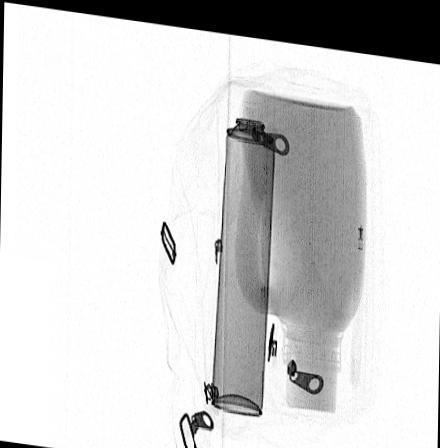Sprayer: (210, 71, 276, 409)
